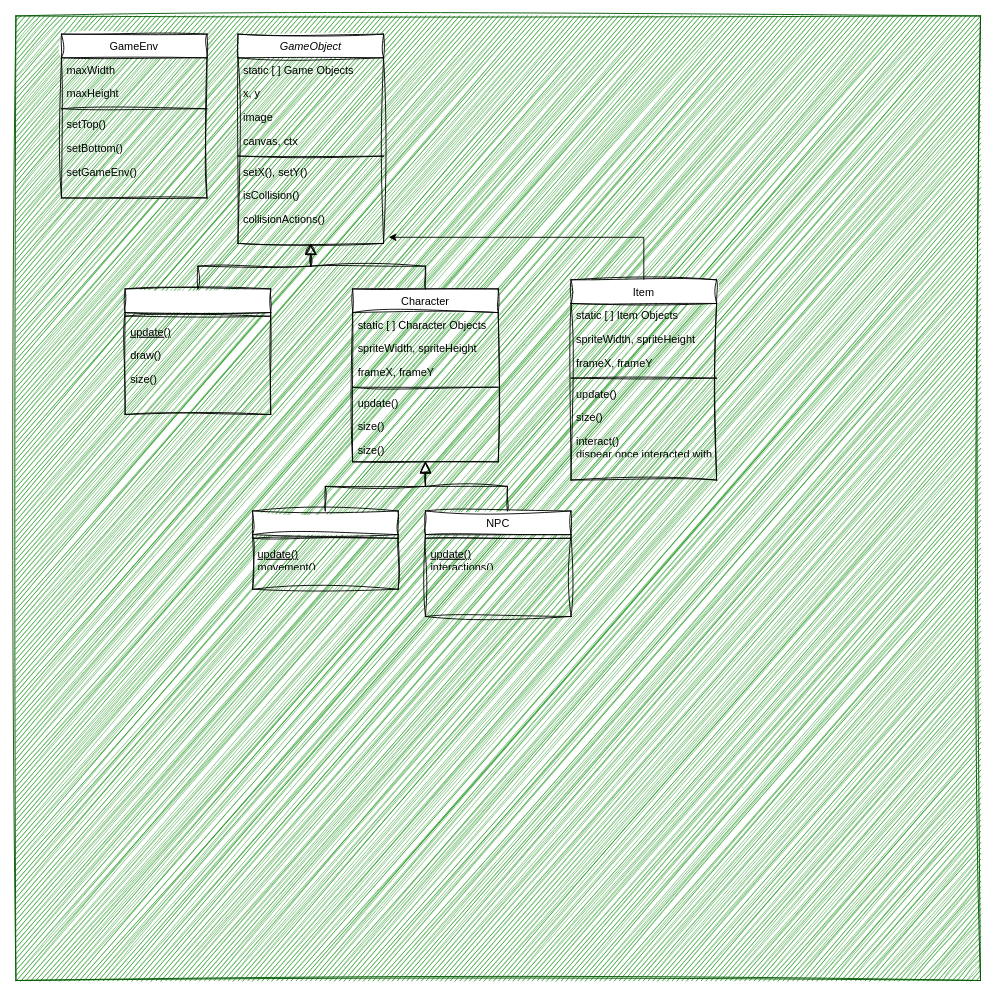
This 996x996 diagram has some shape labels left out. The box of each missing label's shape, as (x1, y1, x2, y2) in pixels:
Background: (124, 288, 271, 415)
Player: (252, 510, 398, 589)
